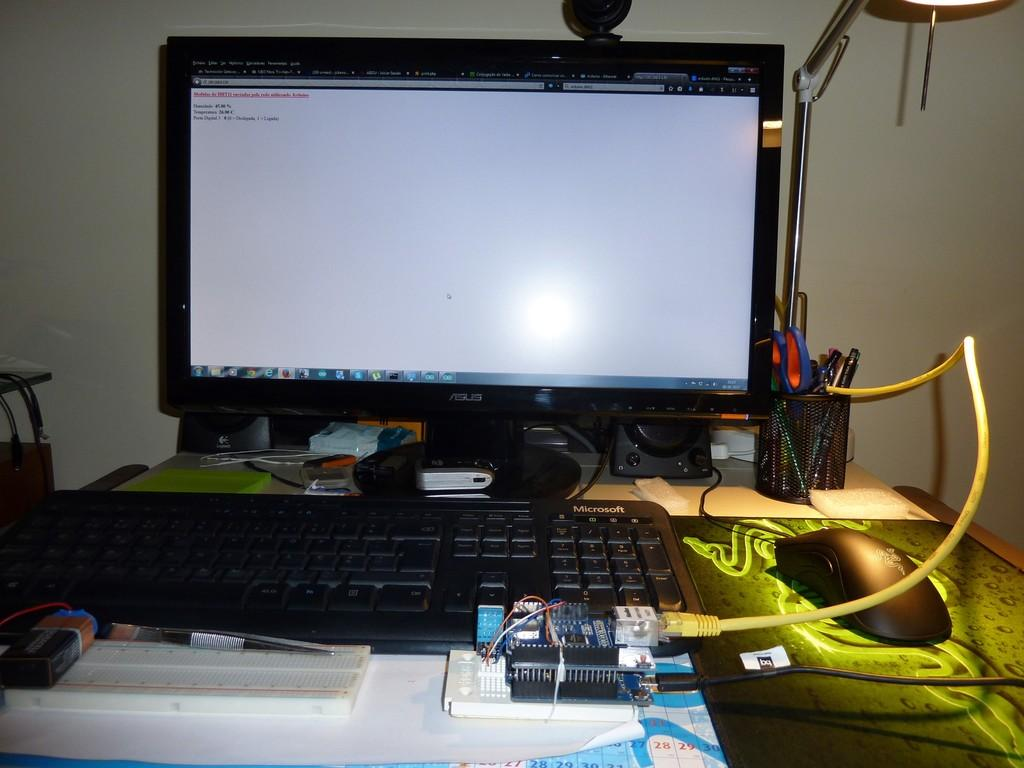Computer-keyboard: (0, 490, 712, 648)
Computer-monitor: (138, 33, 799, 494)
